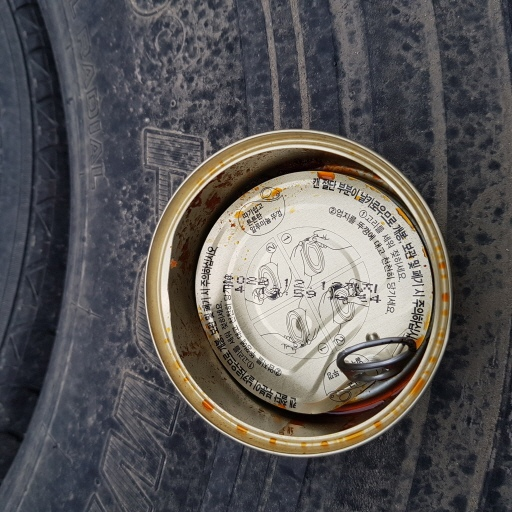Metal_1: (140, 126, 454, 463)
